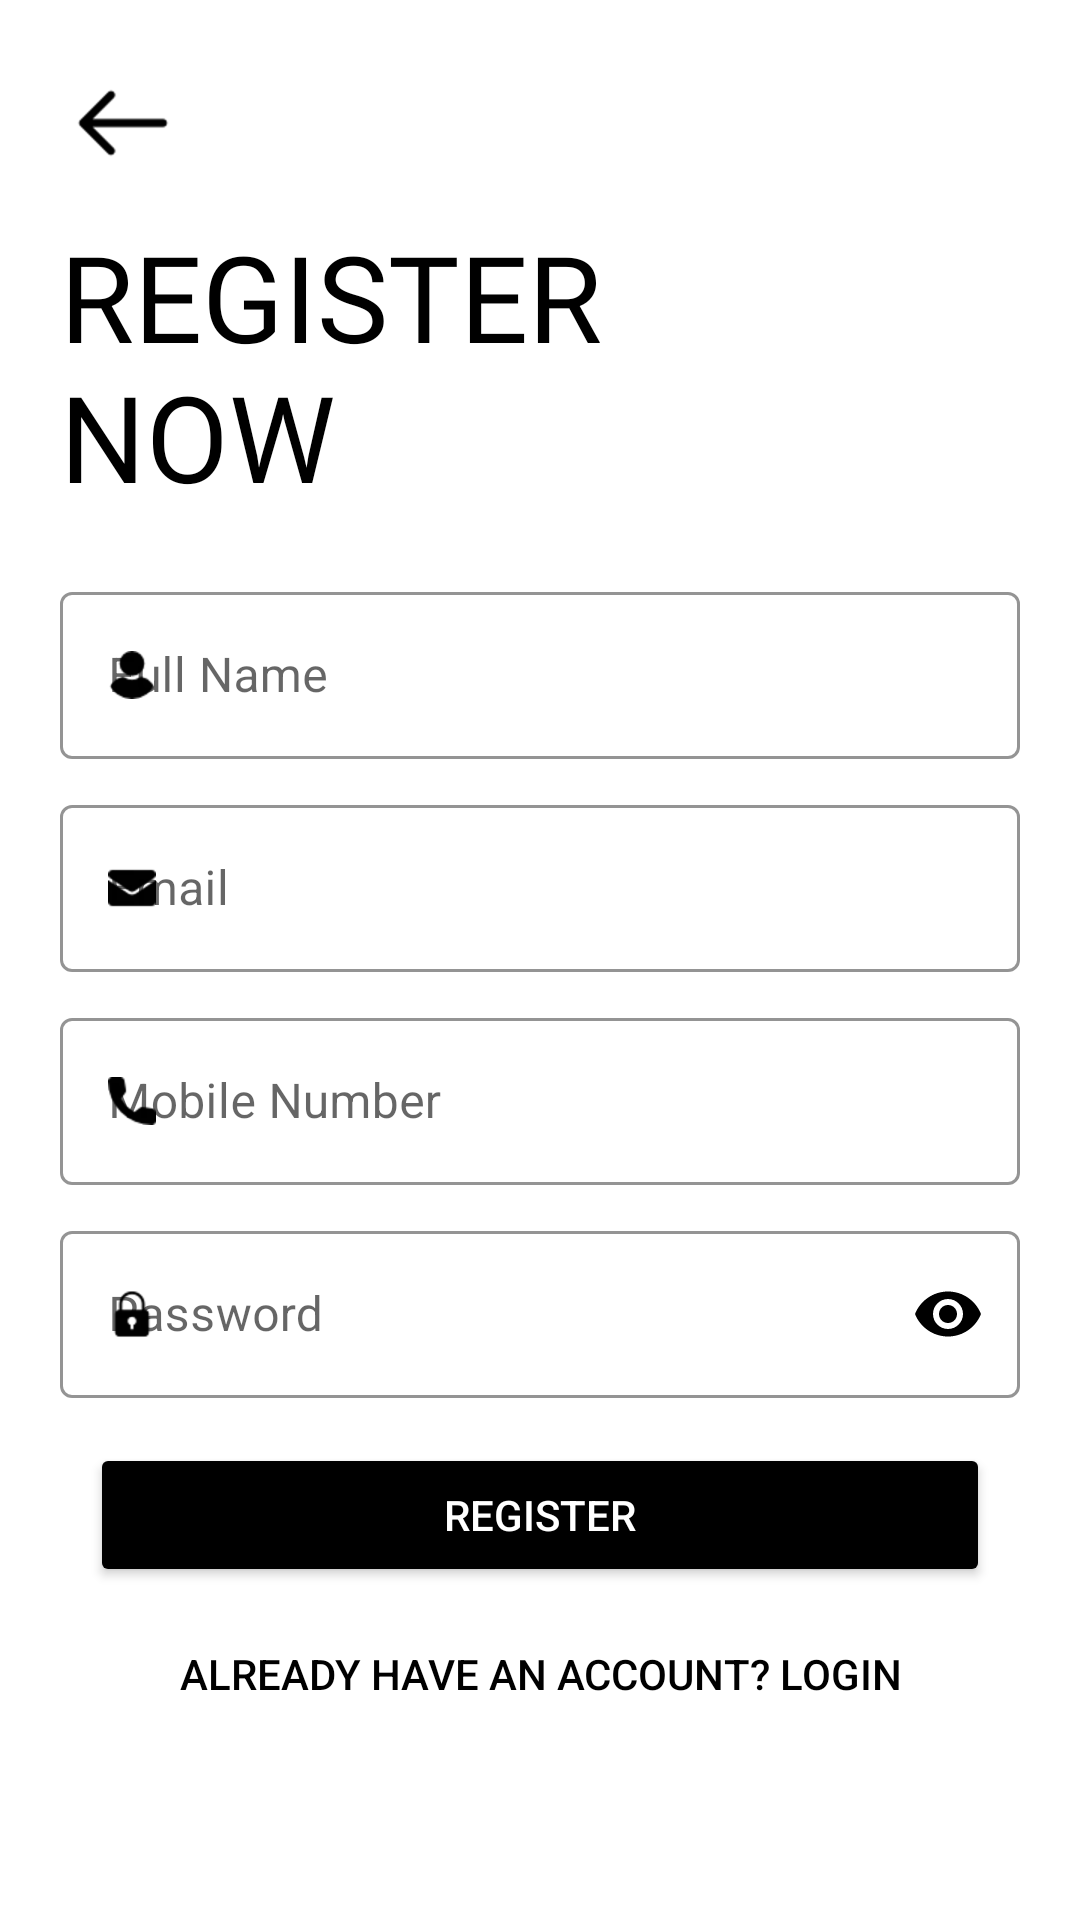

Point at icon controls on the screen. Image size 1080w x 1920h, points as (x=x, y=y).
back: (x=123, y=123)
